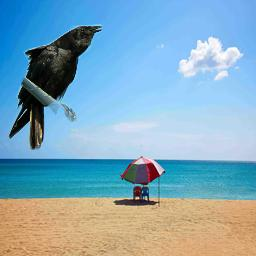Crow: (8, 24, 103, 151)
